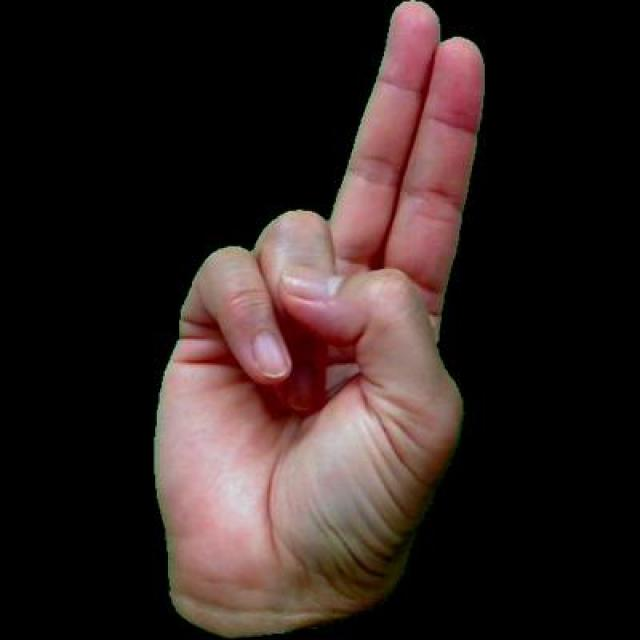u: (147, 0, 485, 637)
